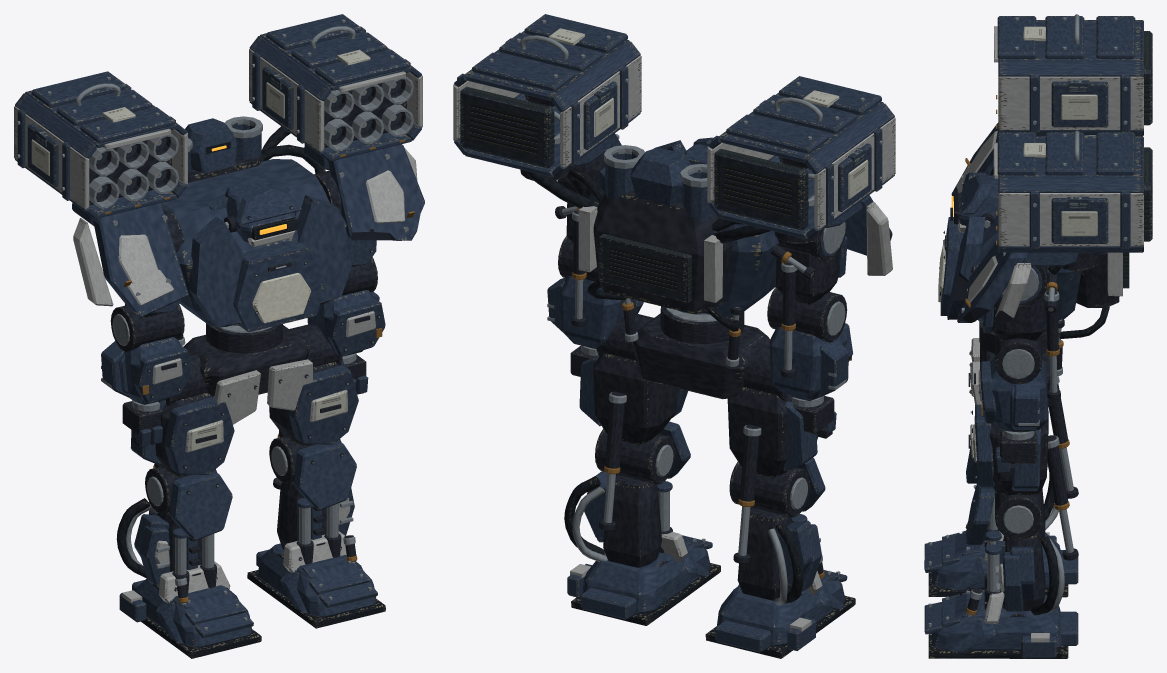
Rendered from basilisk.glb.
The picture shows the model from 3 angles, left to right: view 1: azimuth 30°, elevation 25°; view 2: azimuth 150°, elevation 25°; view 3: azimuth 270°, elevation 25°; orthographic projection. The views are drawn at different scales.
Visible parts, largest first — view 1: spine.geometry, launcher.L.geometry, launcher.R.geometry, knee.R.geometry, pauldron.R.geometry, knee.L.geometry, ankle.R.geometry, ankle.L.geometry, pauldron.L.geometry, elbow.R.geometry, pelvis.geometry, hip.R.geometry (+7 smaller); view 2: spine.geometry, launcher.L.geometry, launcher.R.geometry, knee.L.geometry, knee.R.geometry, ankle.L.geometry, ankle.R.geometry, elbow.R.geometry, hip.L.geometry, hip.R.geometry, pelvis.geometry, elbow.L.geometry (+7 smaller); view 3: launcher.L.geometry, launcher.R.geometry, knee.L.geometry, spine.geometry, ankle.L.geometry, elbow.L.geometry, pauldron.L.geometry, ankle.R.geometry, hip.L.geometry, shoulder.L.geometry, neck.geometry, wrist.L.geometry (+9 smaller).
Part boxes in pixels (box(x1,y1,x2,y2)): spine.geometry: box(161, 116, 351, 353); launcher.L.geometry: box(249, 14, 422, 161); launcher.R.geometry: box(14, 71, 187, 218); knee.R.geometry: box(116, 467, 232, 593); pauldron.R.geometry: box(72, 196, 188, 317); knee.L.geometry: box(269, 436, 356, 564); ankle.R.geometry: box(119, 561, 261, 658); ankle.L.geometry: box(247, 531, 385, 628); pauldron.L.geometry: box(304, 133, 424, 240); elbow.R.geometry: box(101, 304, 191, 404); pelvis.geometry: box(158, 325, 343, 424); hip.R.geometry: box(130, 353, 234, 476); spine.geometry: box(567, 140, 790, 344); launcher.L.geometry: box(453, 14, 641, 208); launcher.R.geometry: box(707, 76, 895, 243); knee.L.geometry: box(564, 421, 690, 567); knee.R.geometry: box(729, 457, 825, 605); ankle.L.geometry: box(567, 531, 720, 625); ankle.R.geometry: box(705, 570, 855, 658); elbow.R.geometry: box(767, 287, 853, 400); hip.L.geometry: box(579, 313, 687, 444); hip.R.geometry: box(727, 343, 817, 477); pelvis.geometry: box(632, 313, 770, 399); elbow.L.geometry: box(547, 235, 643, 349); launcher.L.geometry: box(993, 130, 1152, 270); launcher.R.geometry: box(994, 14, 1152, 136); knee.L.geometry: box(966, 479, 1064, 615); spine.geometry: box(938, 135, 1129, 353); ankle.L.geometry: box(924, 586, 1078, 658); elbow.L.geometry: box(974, 335, 1048, 432); pauldron.L.geometry: box(957, 239, 1078, 322); ankle.R.geometry: box(924, 530, 1078, 597); hip.L.geometry: box(968, 404, 1048, 495); shoulder.L.geometry: box(981, 266, 1047, 340); neck.geometry: box(950, 174, 998, 232); wrist.L.geometry: box(995, 430, 1037, 475).
Bounding box in the file's own units: 5.06 × 7.29 × 2.82.
Materials: 6 (4 with a texture image).
